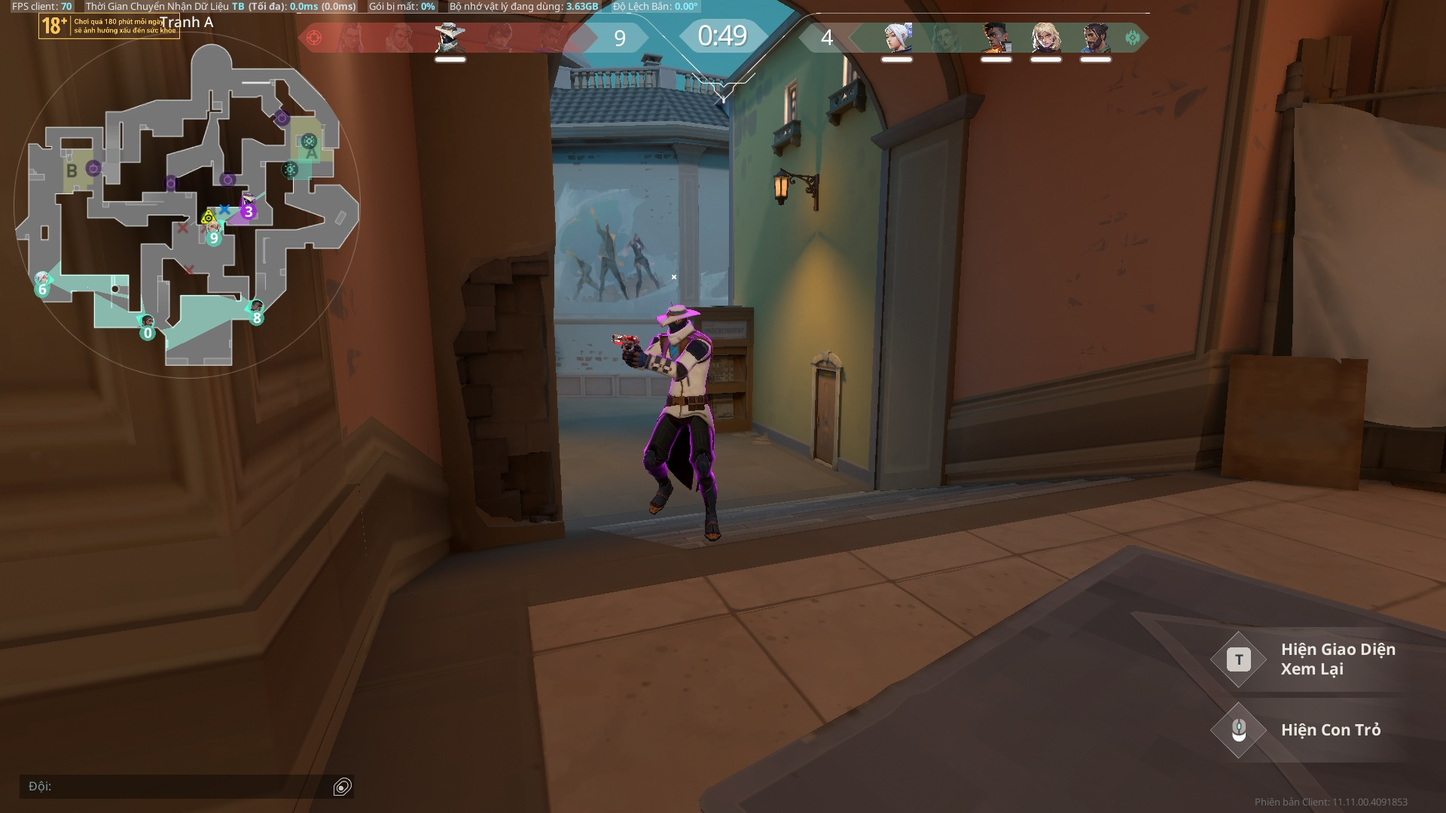body: (658, 330, 712, 394)
head: (663, 305, 692, 329)
